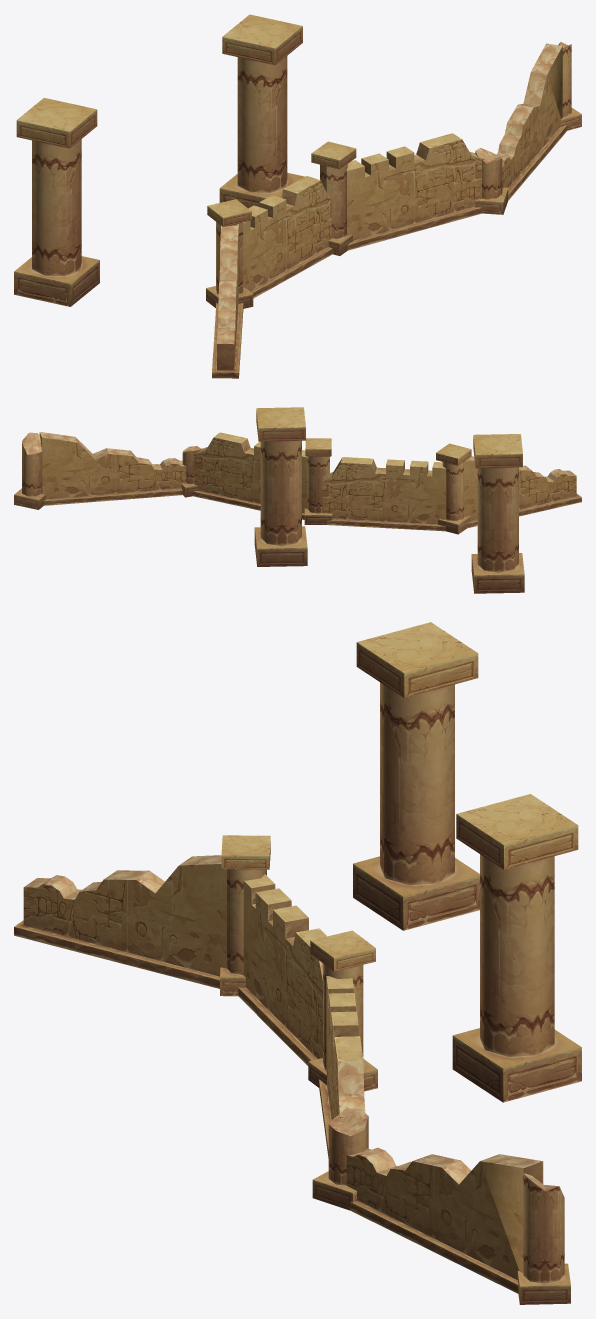
File: Area_10_21.fbx
3 renders of one model, top to bottom at view 1: azimuth 30°, elevation 25°; view 2: azimuth 150°, elevation 25°; view 3: azimuth 270°, elevation 25°, orthographic. The views are drawn at different scales.
Parts seen in each view (by area): view 1: Area_10_21; view 2: Area_10_21; view 3: Area_10_21.
Part boxes in pixels (x1=…): Area_10_21: x1=14, y1=14, x2=581, y2=378; Area_10_21: x1=14, y1=407, x2=581, y2=593; Area_10_21: x1=14, y1=622, x2=581, y2=1304.
Size of the model in its own units: 2692 by 749 by 1507.
